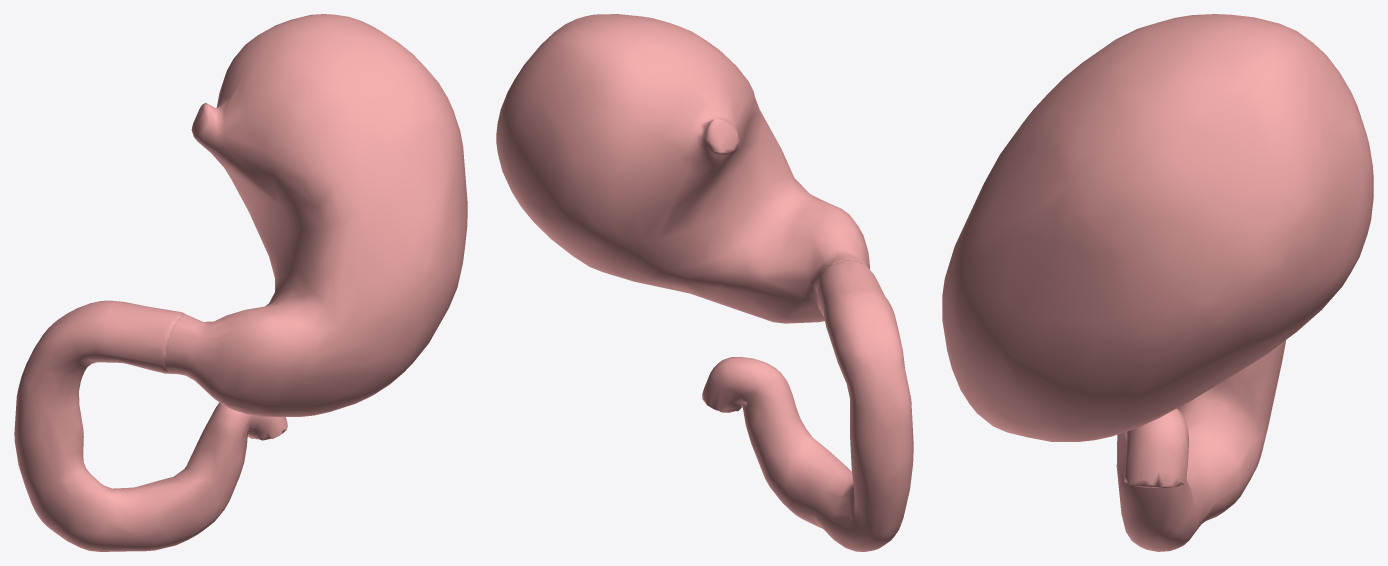
Rendered from Stomach.glb.
3 renders of one model, left to right at view 1: azimuth 30°, elevation 25°; view 2: azimuth 150°, elevation 25°; view 3: azimuth 270°, elevation 25°, orthographic. The views are drawn at different scales.
Visible parts, largest first — view 1: Object_53; view 2: Object_53; view 3: Object_53.
Part boxes in pixels (x1,y1,x2,y2): Object_53: [14, 14, 467, 551]; Object_53: [496, 14, 913, 551]; Object_53: [942, 14, 1373, 551].
Size of the model in its own units: 0.1711 by 0.1844 by 0.1129.
